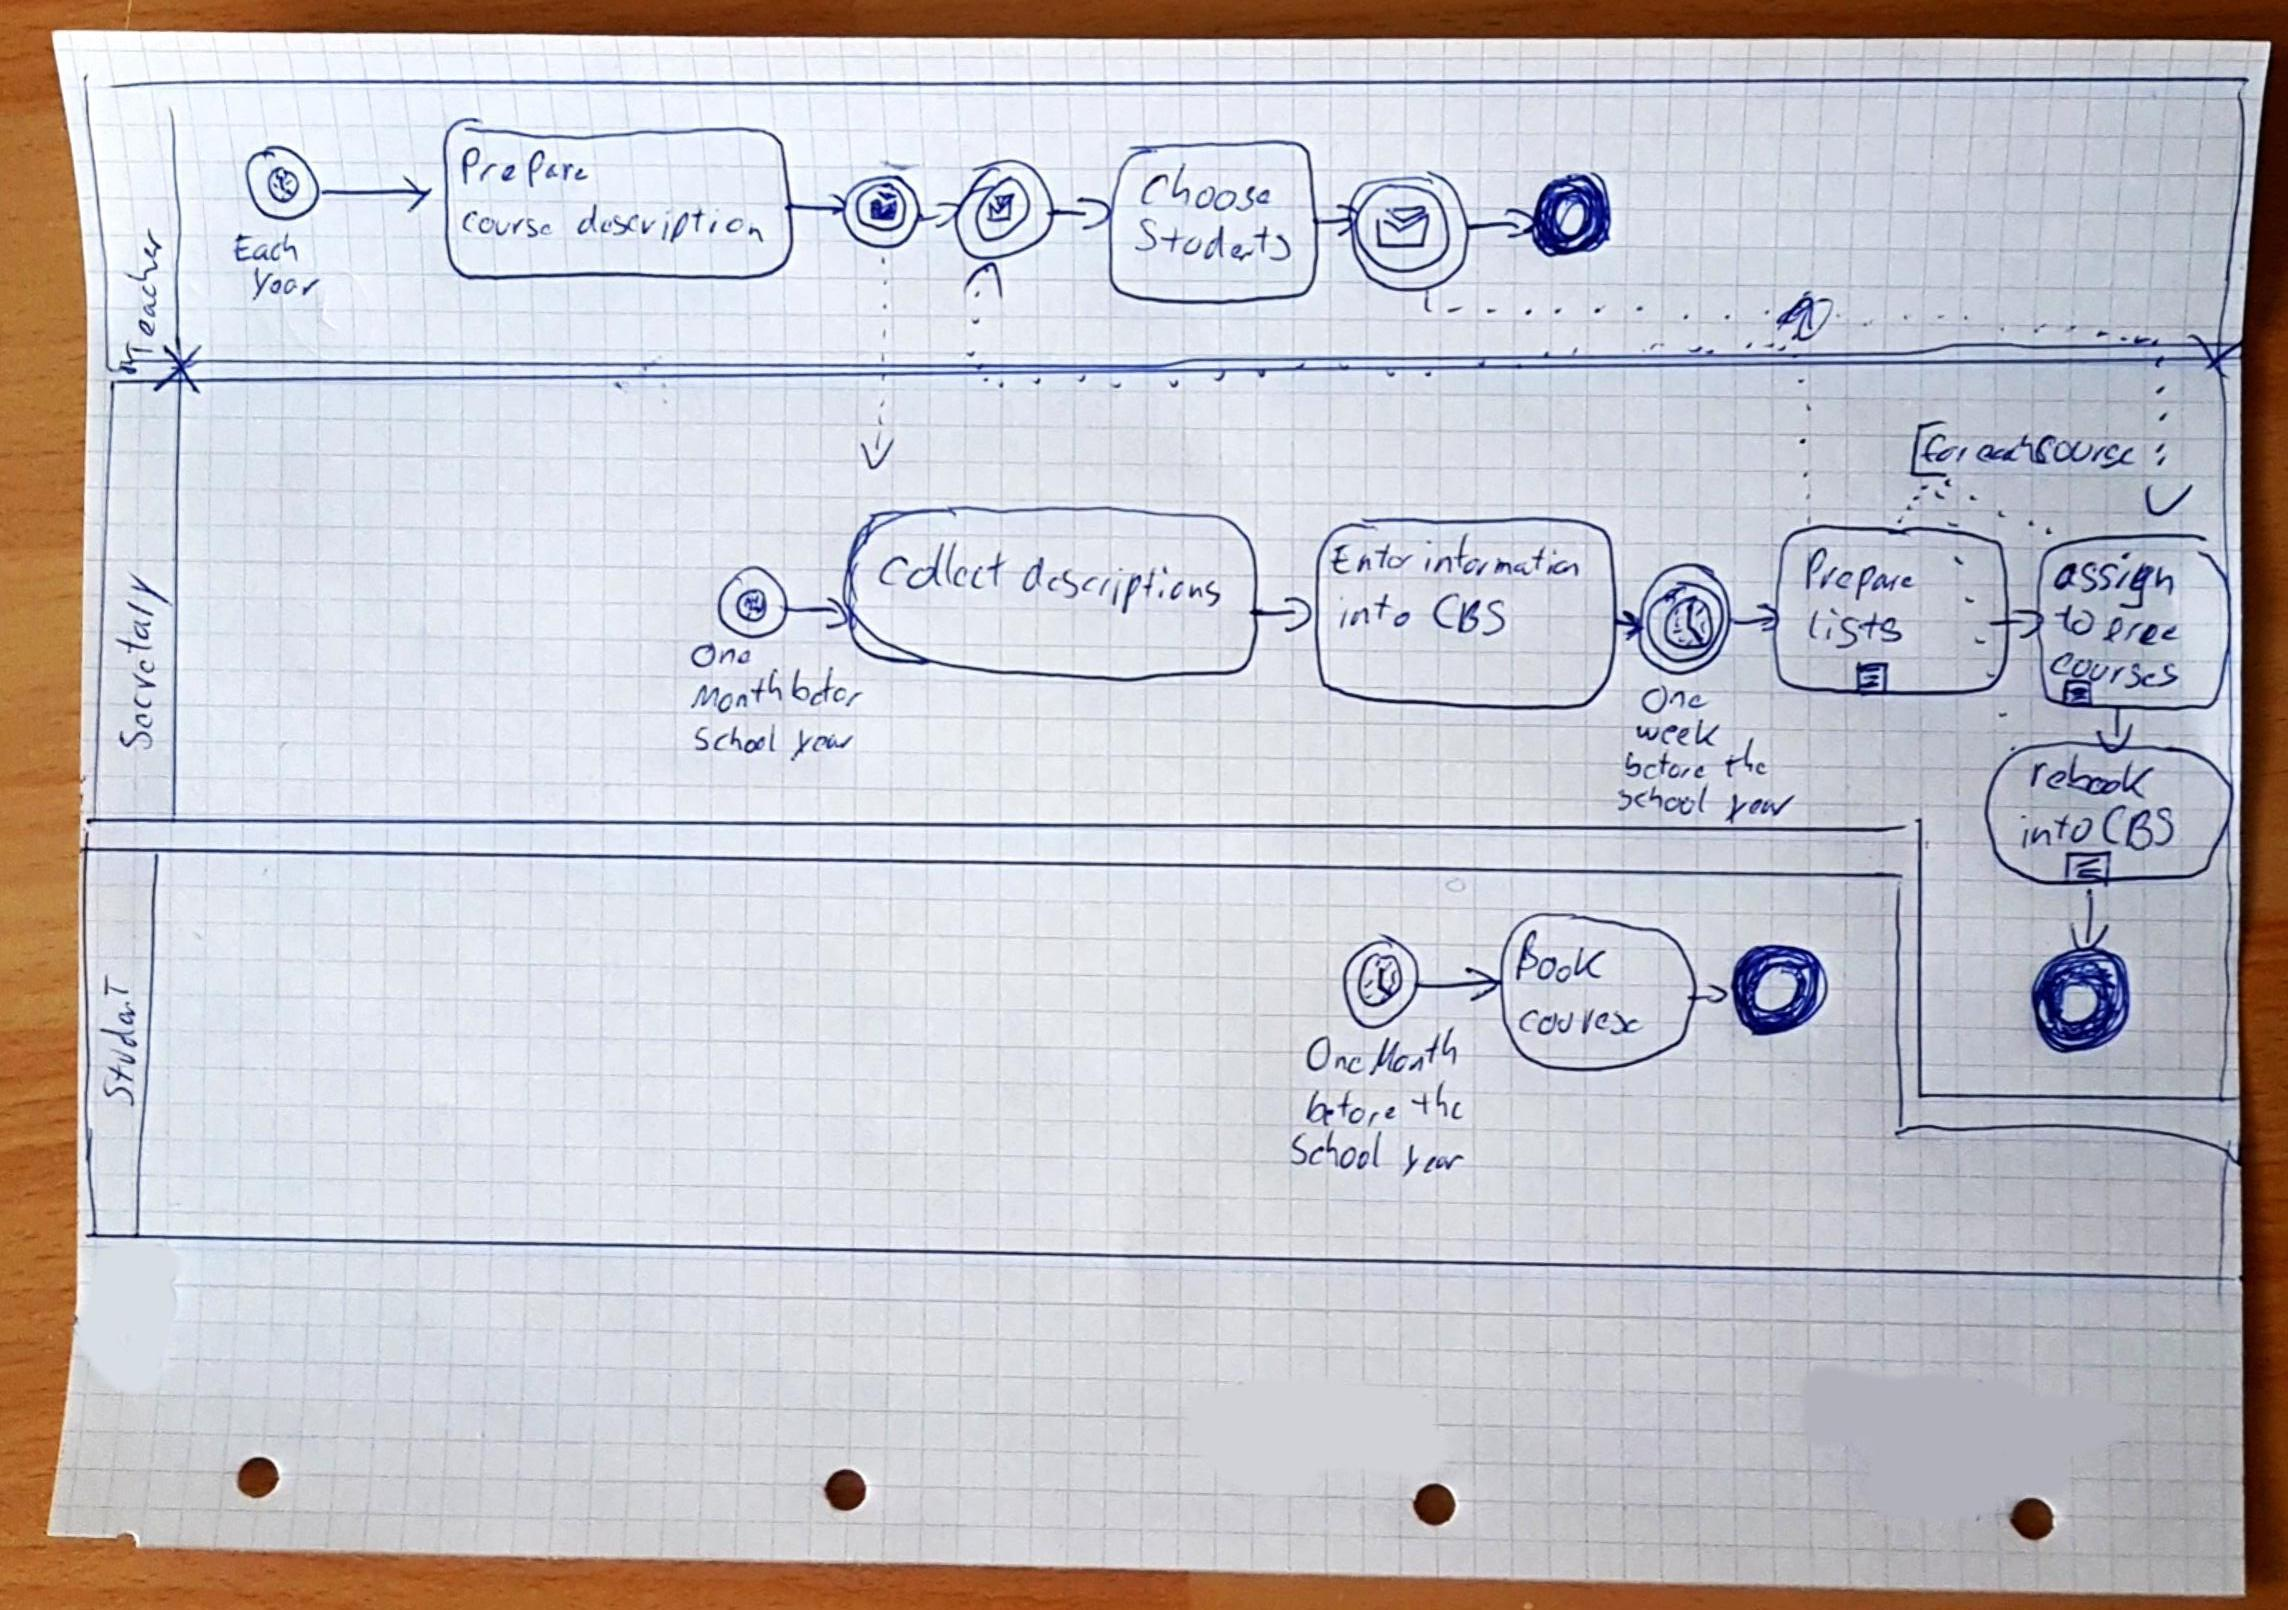Book: (1509, 931, 1611, 988)
CBS: (1433, 593, 1513, 640), (2100, 805, 2179, 852)
Each: (233, 232, 304, 266)
Enter: (1332, 538, 1409, 580)
Month: (1364, 1031, 1461, 1081), (695, 673, 781, 716)
One: (1308, 1031, 1363, 1081), (683, 640, 759, 672), (1638, 684, 1710, 717)
Prepare: (1798, 546, 1917, 603), (457, 143, 597, 190)
School: (1287, 1132, 1391, 1177), (687, 722, 785, 760)
Secretary: (112, 568, 169, 755)
Student: (90, 973, 144, 1107)
Students: (1135, 216, 1294, 266)
Teacher: (115, 230, 169, 366)
[for: (1907, 417, 1971, 485)
assign: (2053, 552, 2176, 612)
before: (1304, 1086, 1407, 1128), (789, 667, 862, 711), (1619, 749, 1711, 783)
choose: (1137, 165, 1272, 211)
collect: (877, 543, 1013, 601)
course: (2031, 425, 2139, 477), (1515, 1004, 1641, 1041), (458, 206, 563, 243)
courses: (2050, 648, 2184, 695)
description: (572, 206, 767, 246)
descriptions: (1019, 552, 1233, 617)
each: (1977, 422, 2028, 474)
free: (2103, 609, 2183, 653)
information: (1412, 536, 1586, 582)
into: (1327, 593, 1419, 637), (2014, 812, 2093, 850)
lists: (1798, 604, 1904, 651)
rebook: (2024, 751, 2156, 797)
school: (1611, 783, 1715, 818)
the: (1414, 1084, 1466, 1127), (1720, 741, 1770, 779)
to: (2054, 599, 2100, 644)
week: (1630, 718, 1720, 755)
year: (1400, 1138, 1466, 1183), (1717, 789, 1799, 825), (793, 724, 855, 763), (253, 267, 316, 299)
